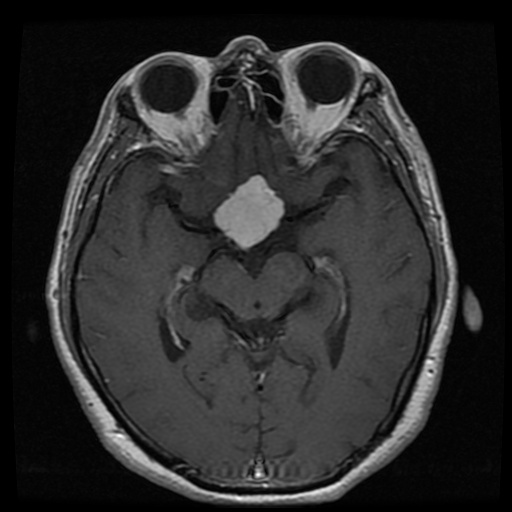meningioma: (214, 173, 284, 248)
